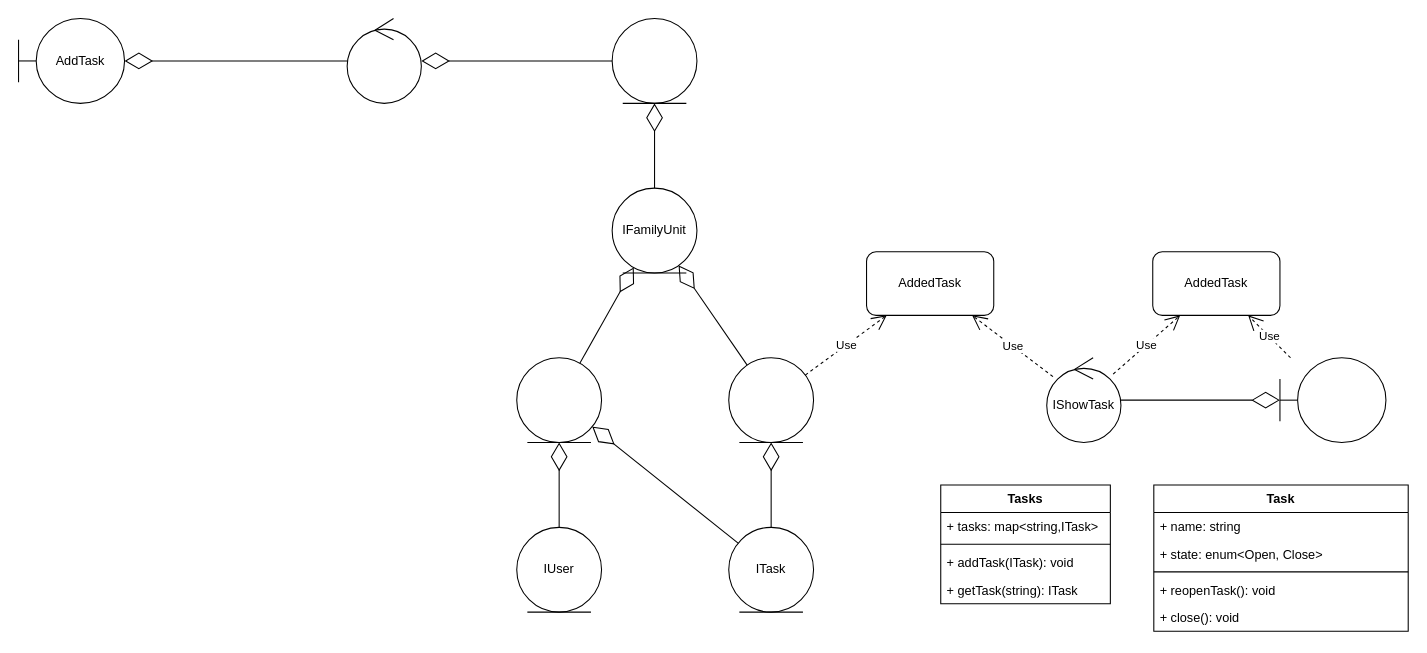
This 1427x653 diagram has some shape labels left out. The shapes that lost their labels are listed below. From the top down, each one's box as (x1, y1, x2, y2) in pixels, then its label:
(346, 17, 421, 103): IAddTask
(611, 17, 697, 103): IFamiliesUnits
(516, 357, 602, 443): IUsers
(728, 357, 814, 443): ITasks
(1279, 357, 1386, 443): ShowTask
